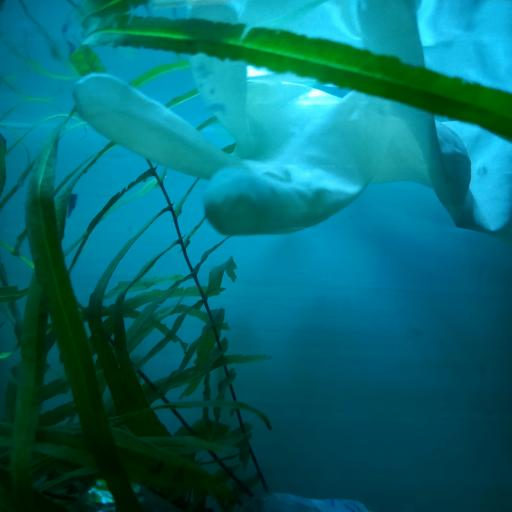bottle_cap: (66, 2, 512, 240)
plastic_bottle: (82, 483, 383, 512)
